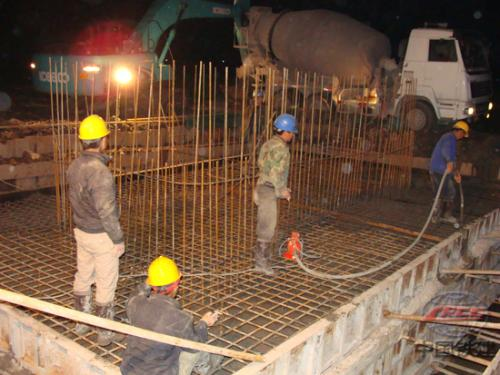boots: (253, 236, 279, 276), (73, 292, 94, 334), (431, 192, 458, 224), (95, 302, 115, 345), (195, 347, 222, 375)
gloves: (200, 311, 219, 327), (111, 242, 126, 258), (453, 170, 462, 183)
hard-hat: (146, 255, 181, 287), (78, 114, 111, 141), (272, 114, 299, 134), (452, 120, 470, 137)
person: (66, 114, 126, 347), (119, 254, 222, 375), (252, 113, 299, 276), (428, 120, 470, 224)
